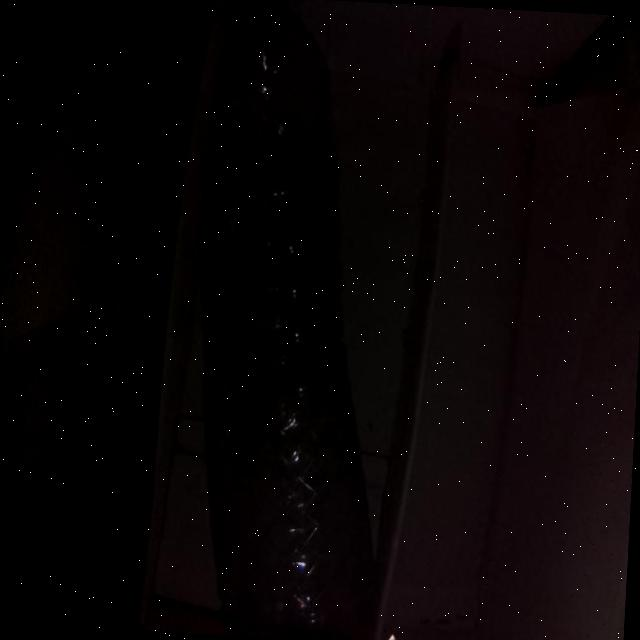bottle: (160, 0, 420, 636)
